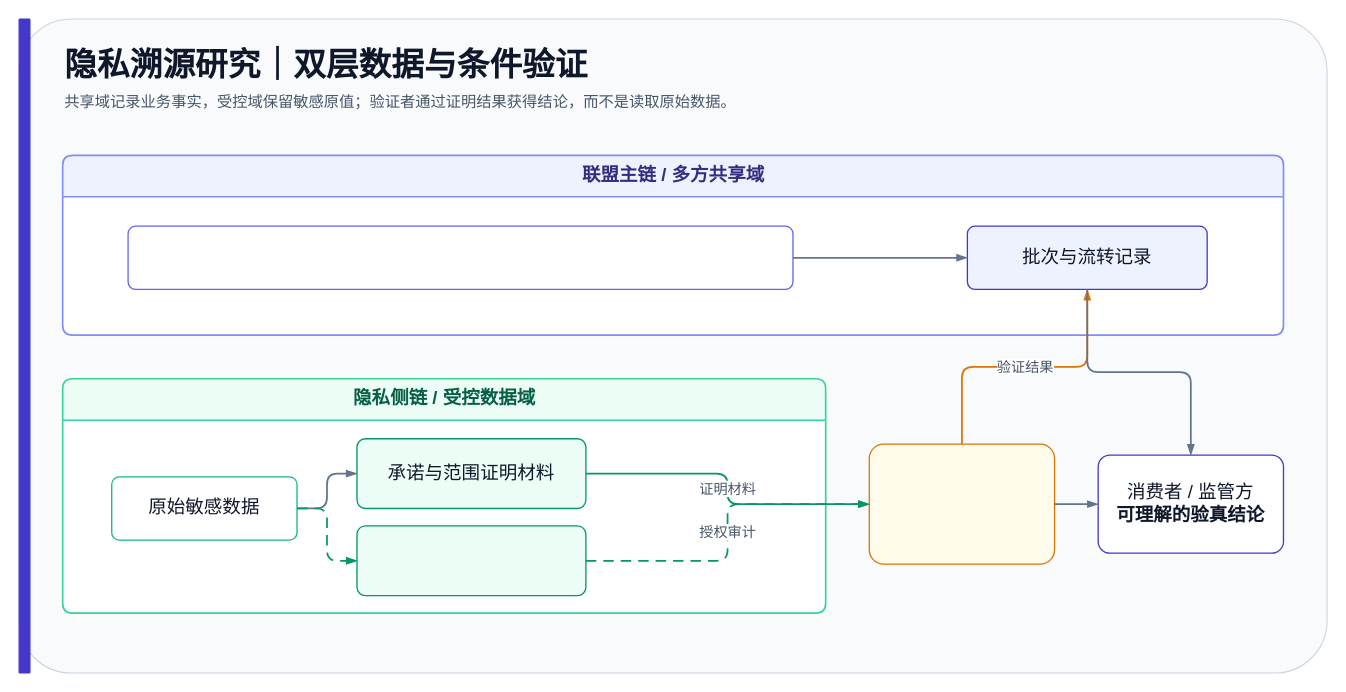
The diagram is 1346 pixels wide and 692 high, and some of its shapes have lost their labels. The box of each missing label's shape, as (x1, y1, x2, y2) in pixels:
业务状态机 · 多方签名 · Merkle Root / 哈希锚点: (127, 225, 793, 290)
条件验证网关 不披露原值: (868, 443, 1055, 564)
访问策略与授权记录: (356, 525, 586, 596)
